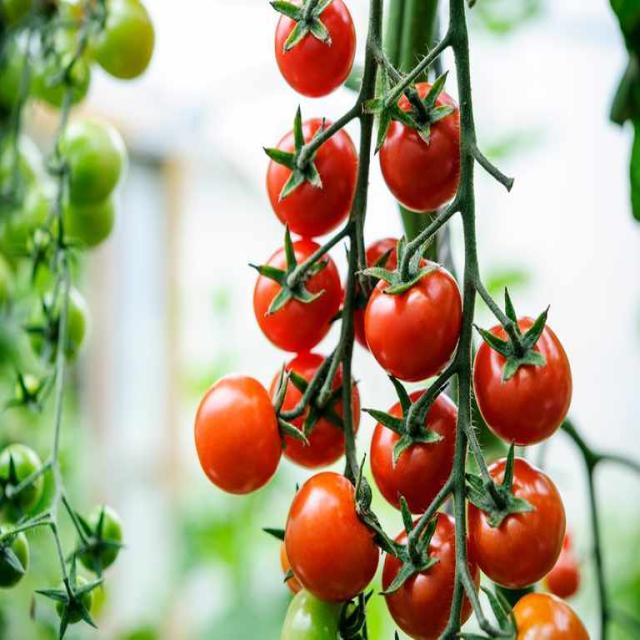kirmizi: (264, 124, 564, 602)
